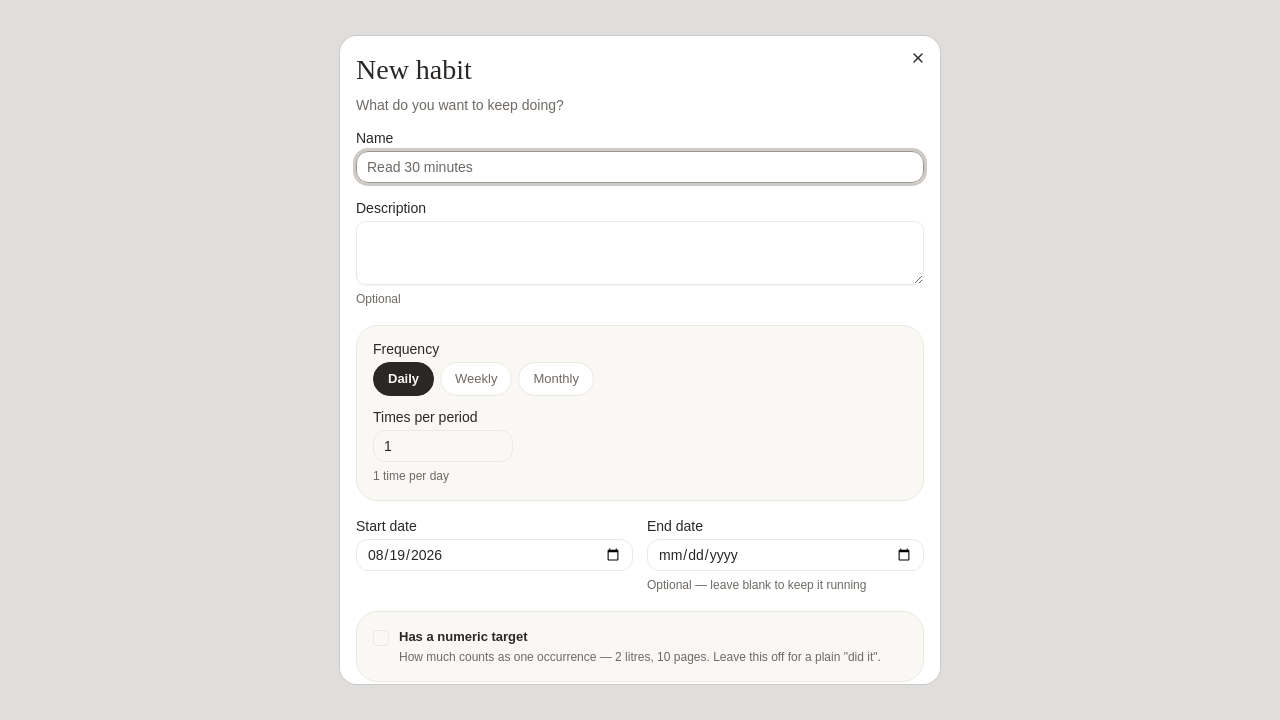
Test: HabitFormDialog › shows what the API rejected instead of closing
The width and height of the screenshot is (1280, 720).
Type "Read" into the field labelled "Name".
click(640, 167); type("Read")  # box [356,151,924,183]
(page scrolled)
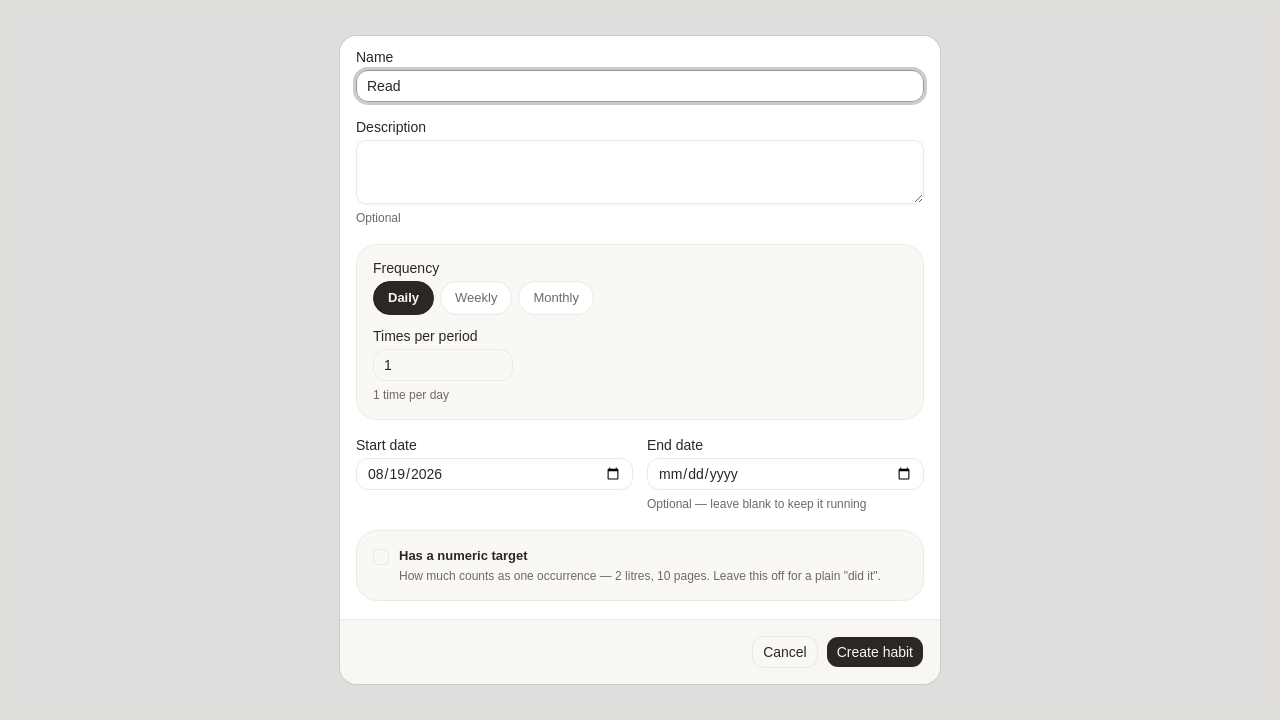
Click the button "Create habit".
click(875, 652)  # box [826,636,924,668]
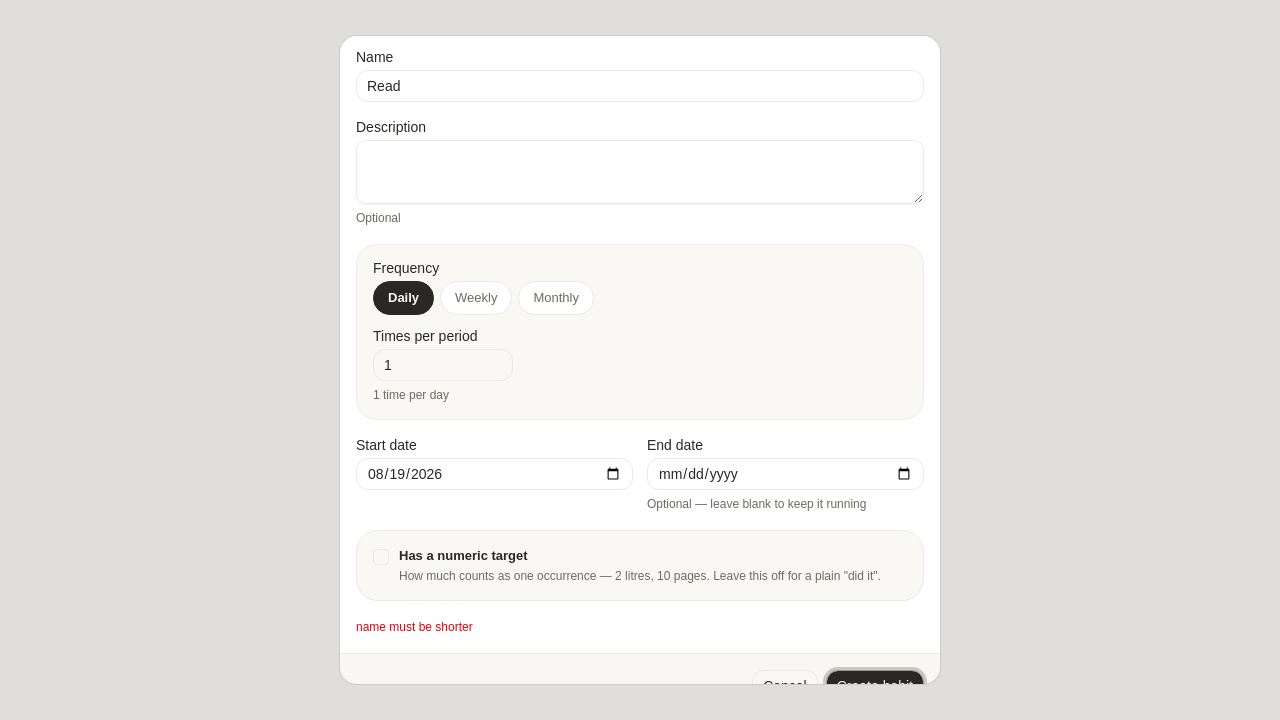
expect the text "name must be shorter" is shown: met, box [356,620,473,634]
